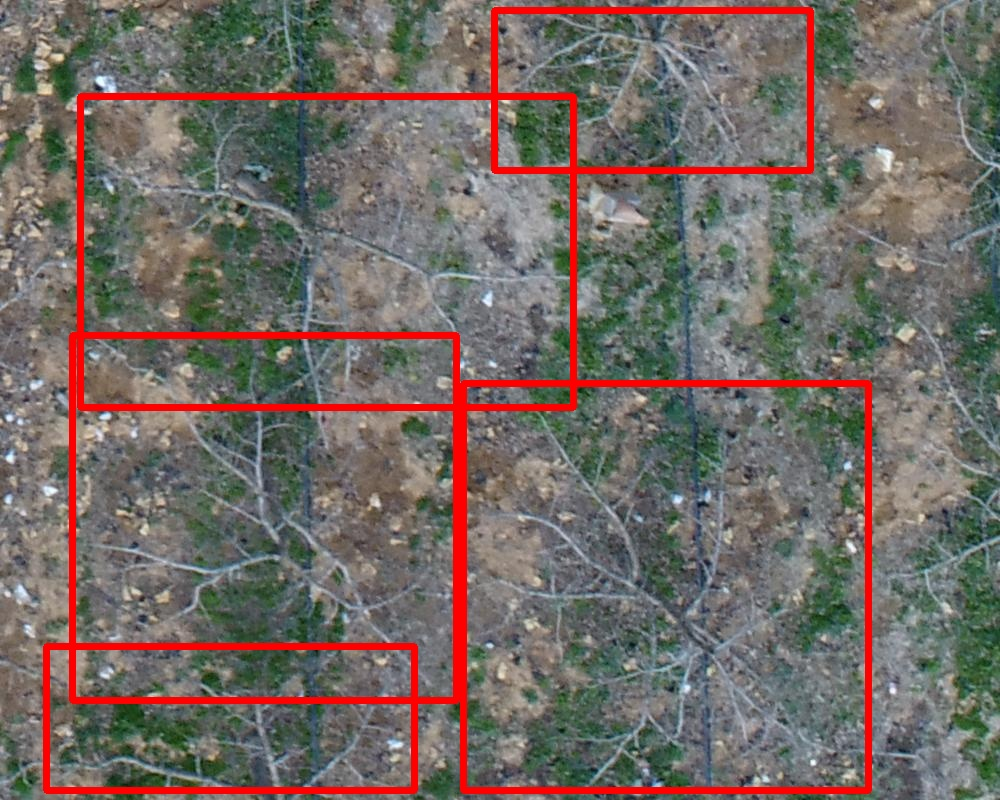apple: (463, 383, 868, 790), (80, 96, 573, 407), (72, 335, 456, 700), (46, 646, 414, 790), (494, 10, 810, 170)
